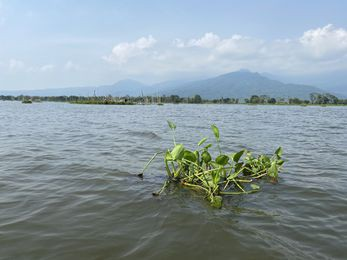water_hyacinth: (131, 114, 295, 208)
